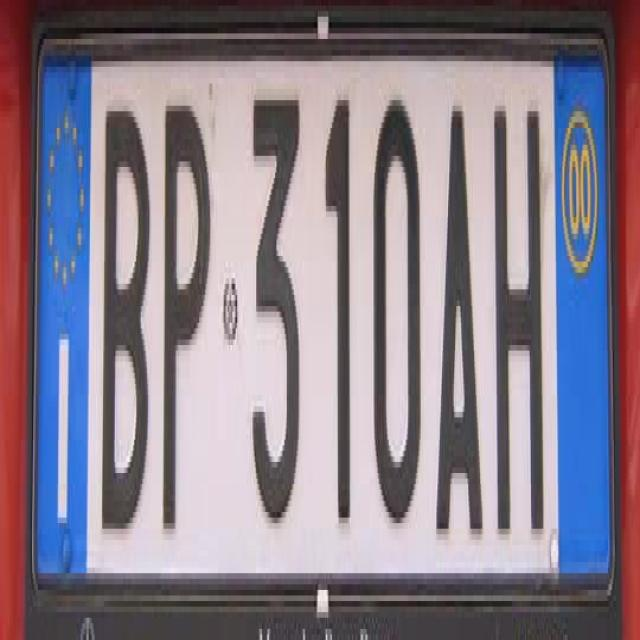EU: (33, 18, 617, 606)
Italie: (36, 45, 86, 569)
